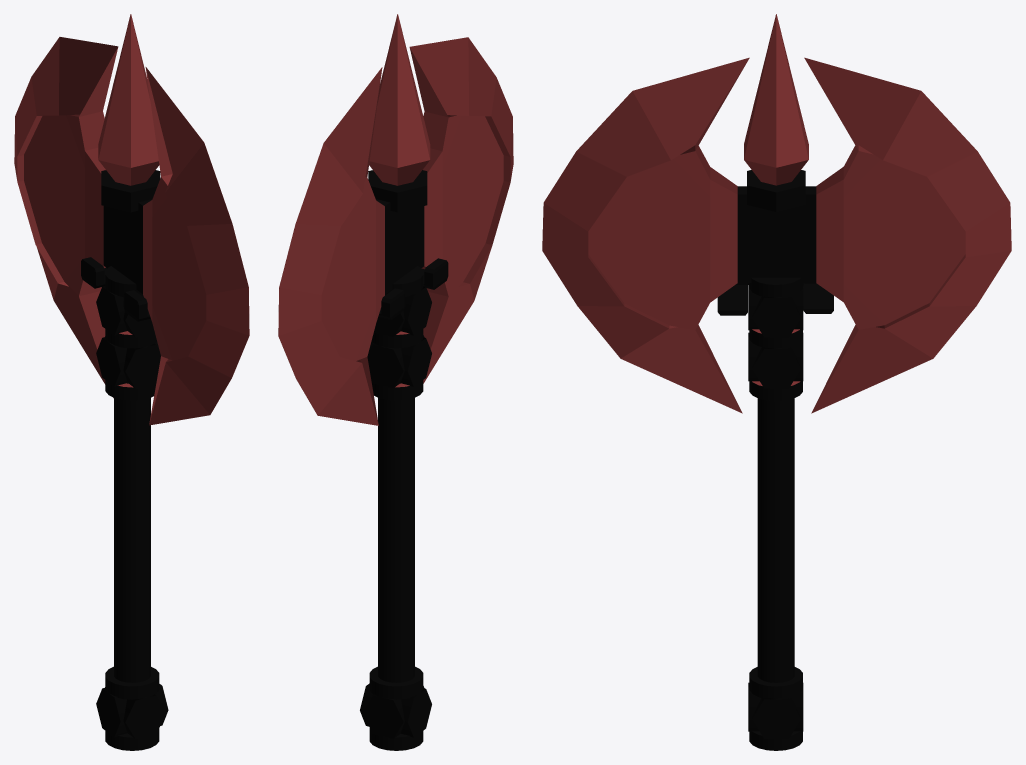
Rendered from axe.FBX.
3 views of the same model, side by side, from view 1: azimuth 30°, elevation 25°; view 2: azimuth 150°, elevation 25°; view 3: azimuth 270°, elevation 25° (orthographic).
Visible parts, largest first — view 1: Cylinder013; view 2: Cylinder013; view 3: Cylinder013.
Part boxes in pixels (x1,y1,x2,y2): Cylinder013: [14, 14, 249, 750]; Cylinder013: [278, 14, 513, 750]; Cylinder013: [542, 14, 1011, 750].
Size of the model in its own units: 31.71 by 300 by 176.
